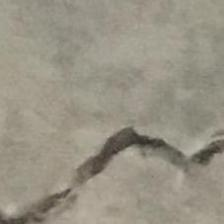Crack: (0, 113, 224, 216)
